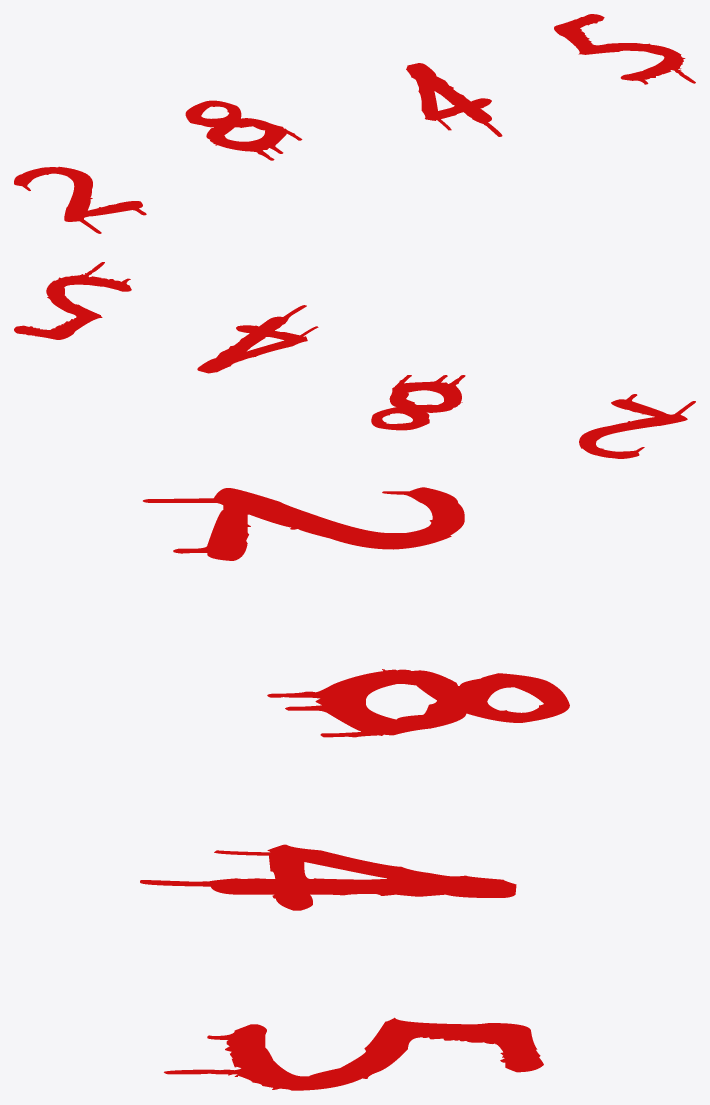
The model's file is keykey_config.fbx.
3 renders of one model, top to bottom at view 1: azimuth 30°, elevation 25°; view 2: azimuth 150°, elevation 25°; view 3: azimuth 270°, elevation 25°, orthographic. The views are drawn at different scales.
Visible parts, largest first — view 1: Text; view 2: Text; view 3: Text.
Boxes of the visible parts, bbox=[...] form: Text: bbox=[14, 14, 695, 233]; Text: bbox=[14, 262, 695, 458]; Text: bbox=[140, 487, 569, 1090].
Size of the model in its own units: 173 by 8.5e-06 by 52.18.
